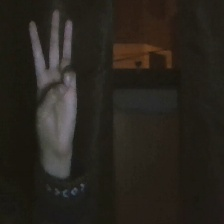W: (20, 1, 86, 159)
